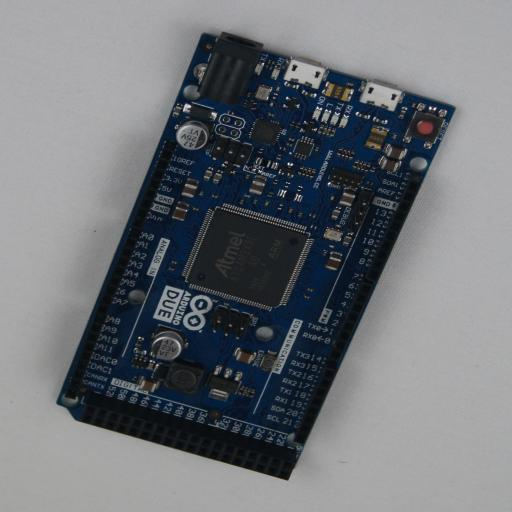Arduino Due: (56, 32, 456, 480)
